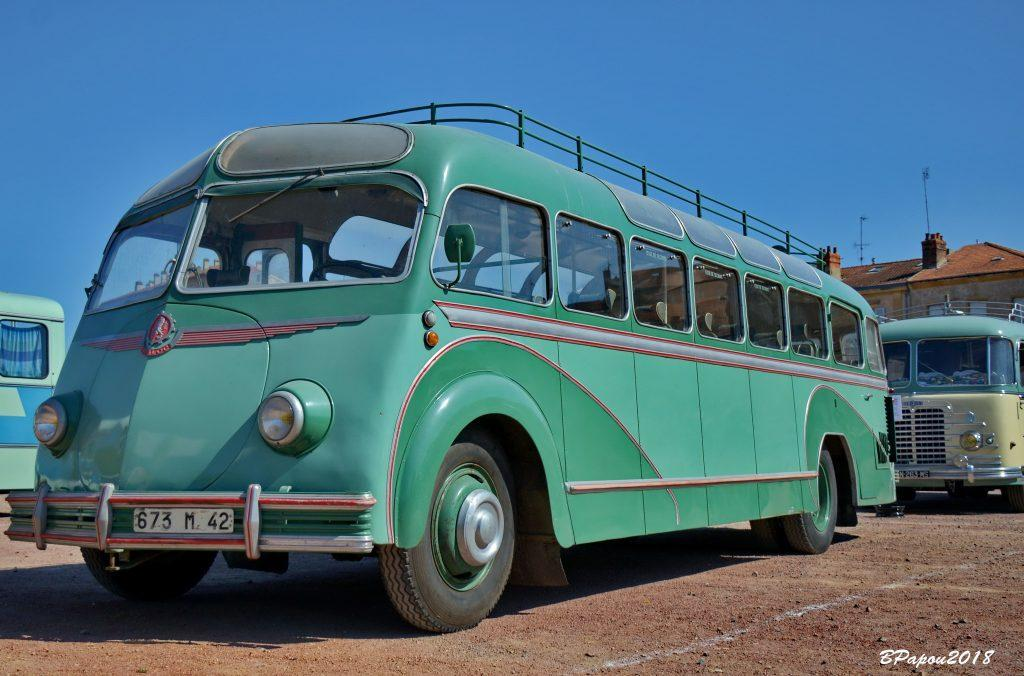Bus: (0, 106, 901, 636)
